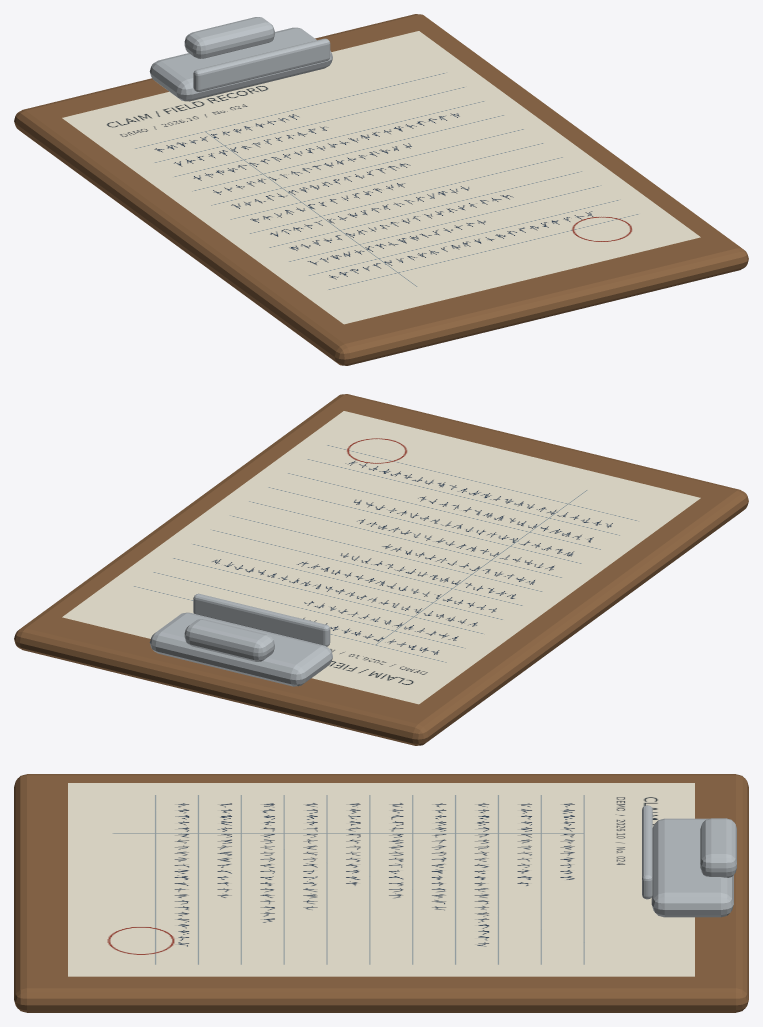
Rendered from obj-clipboard.glb.
The picture shows the model from 3 angles, top to bottom: view 1: azimuth 30°, elevation 25°; view 2: azimuth 150°, elevation 25°; view 3: azimuth 270°, elevation 25°; orthographic projection. The views are drawn at different scales.
Parts seen in each view (by area): view 1: clipboard; view 2: clipboard; view 3: clipboard.
Part boxes in pixels (x1,y1,x2,y2): clipboard: (14, 14, 748, 365); clipboard: (14, 394, 748, 745); clipboard: (14, 774, 748, 1012).
Size of the model in its own units: 0.245 by 0.035 by 0.34.
3 materials, 1 textured.
